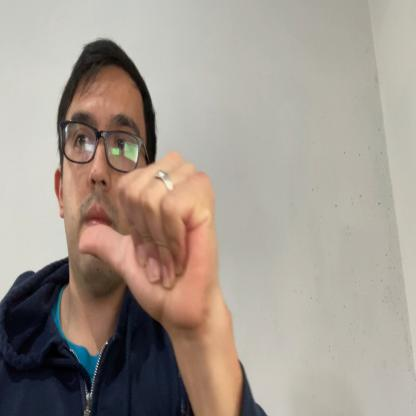A: (77, 147, 220, 344)
